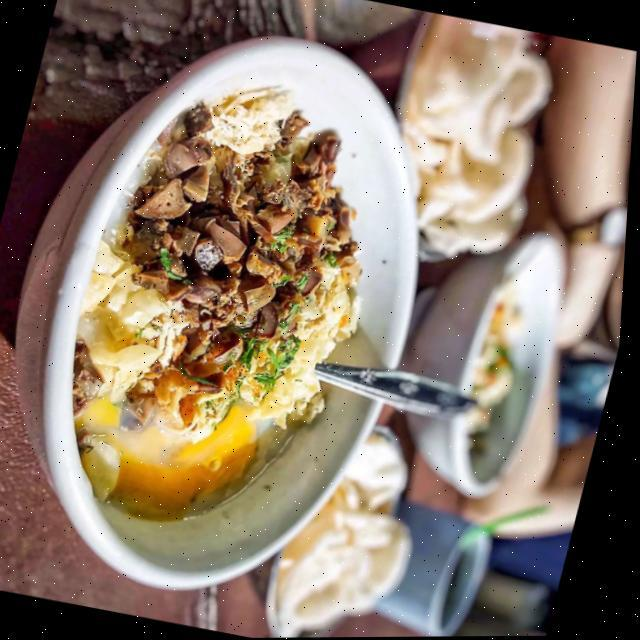bubur ayam: (27, 59, 415, 546)
mangkuk: (0, 0, 477, 625), (368, 210, 582, 506), (356, 9, 574, 276)
